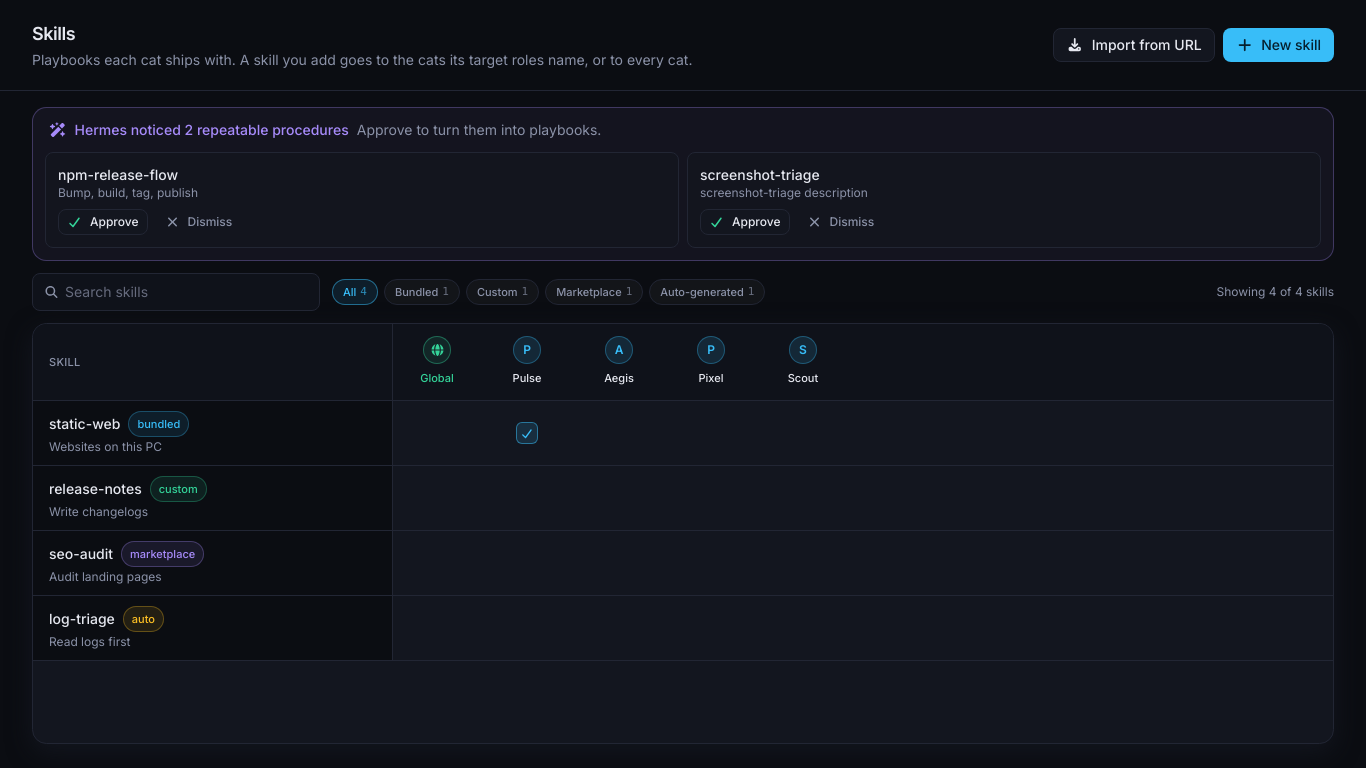
Test: SkillsPage › Hermes proposals › approve asks for an agent, then approves and removes the card
Check: the text "npm-release-flow" is shown, box [58,166,178,183]
Check: the text "Bump, build, tag, publish" is shown, box [58,185,198,200]
Click the button "Approve" below "npm-release-flow" at (103,222), box [58,209,148,235]
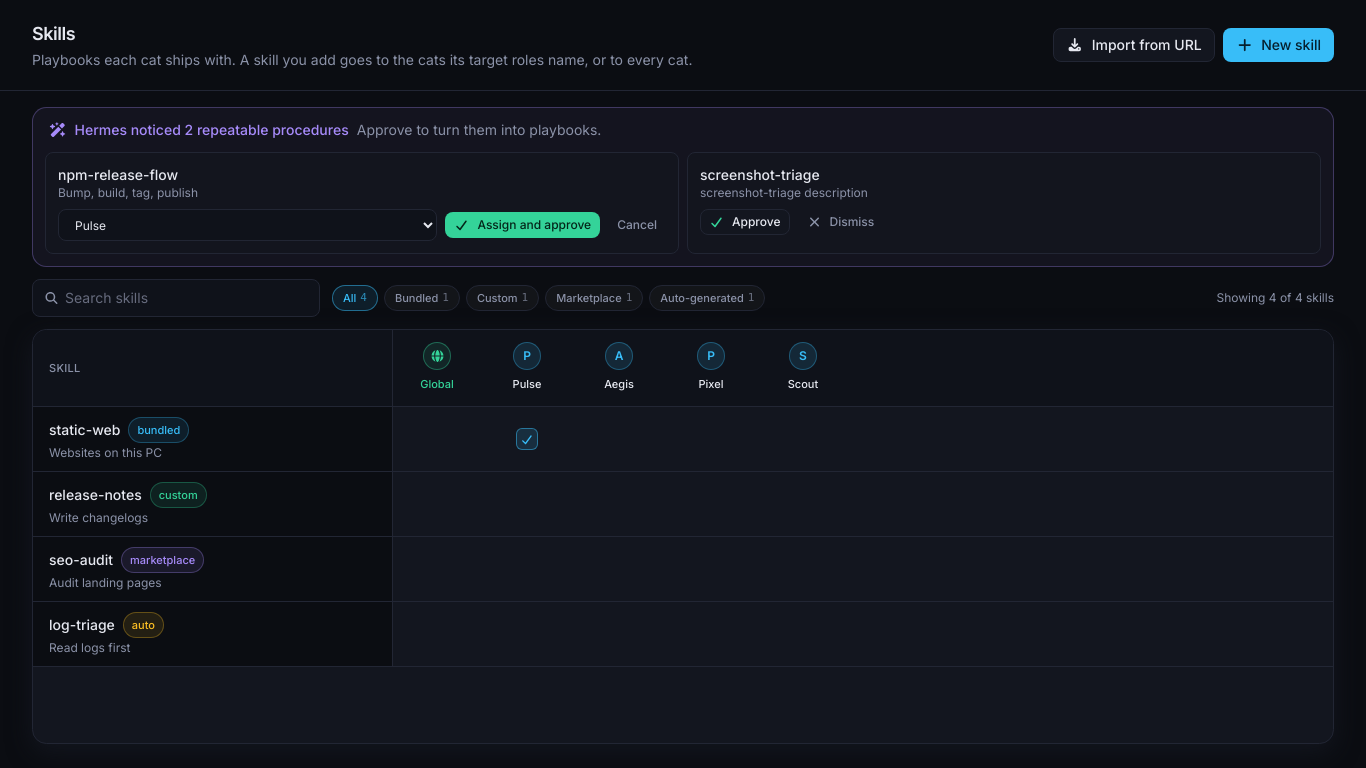
Check: the dropdown named "Assign npm-release-flow to" shows "Pulse"
Select "Aegis" in the dropdown named "Assign npm-release-flow to" at (248,225), box [58,209,437,241]
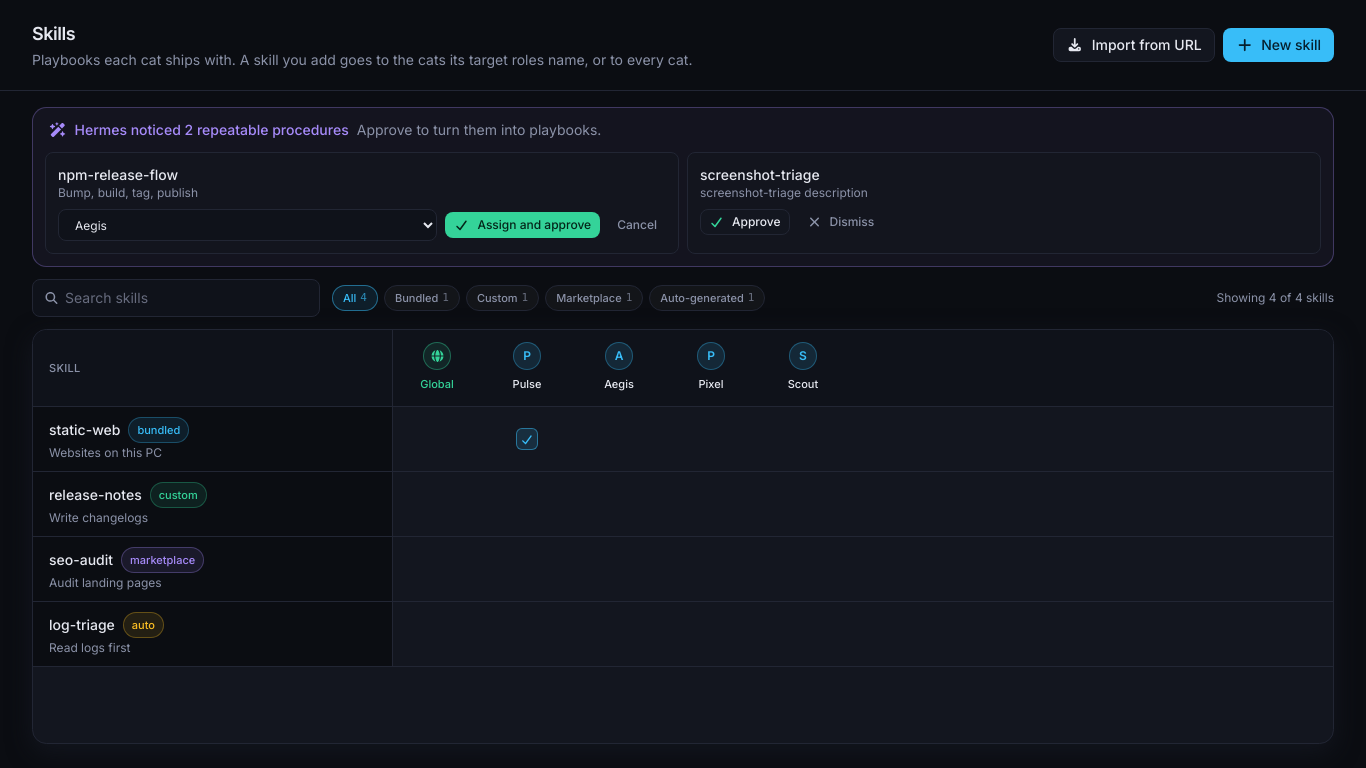
Click the button "Assign and approve" at (523,225), box [445,212,600,238]
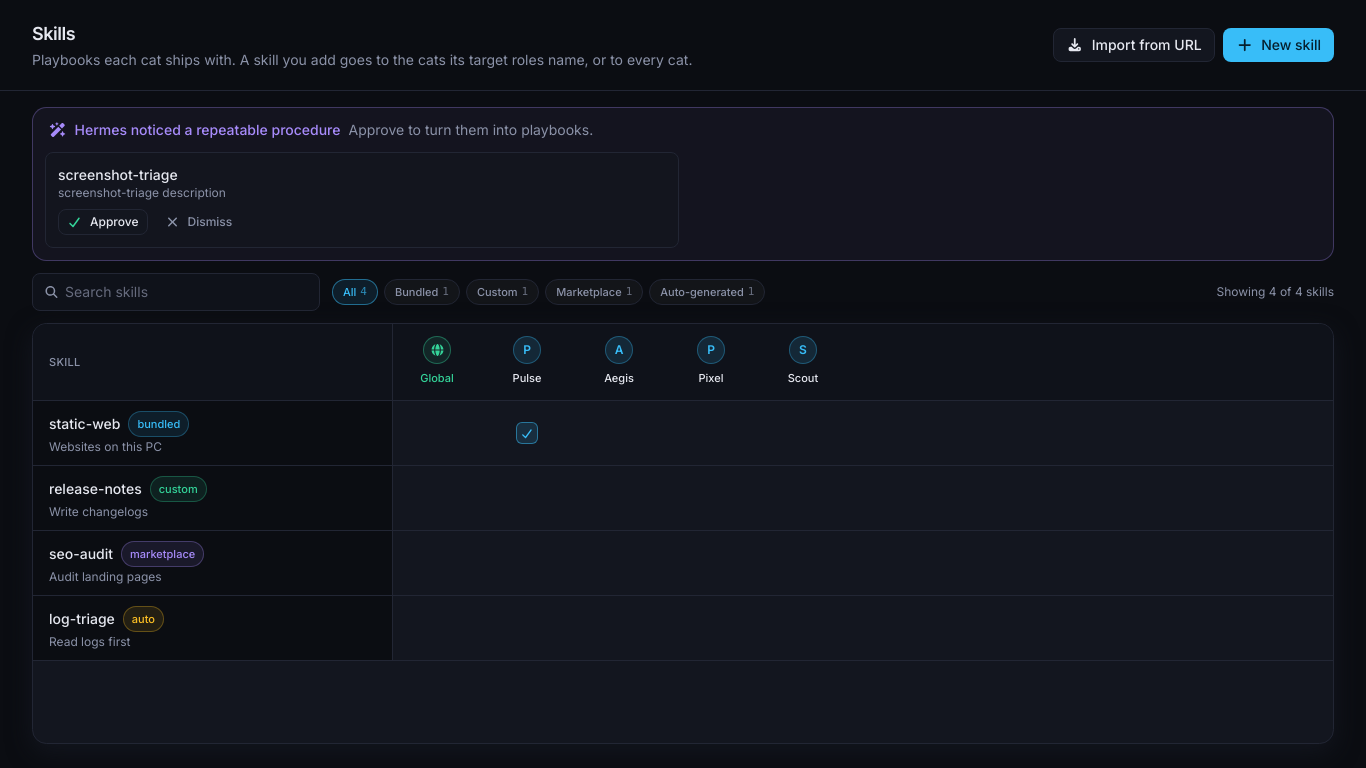
Check: the text "screenshot-triage" is shown, box [58,166,178,183]
Check: the text "npm-release-flow" is gone
